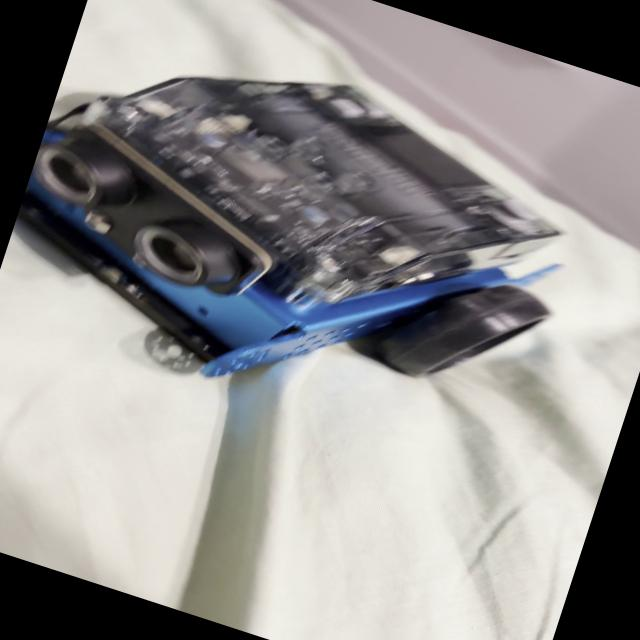mbot-detection: (0, 0, 610, 485)
